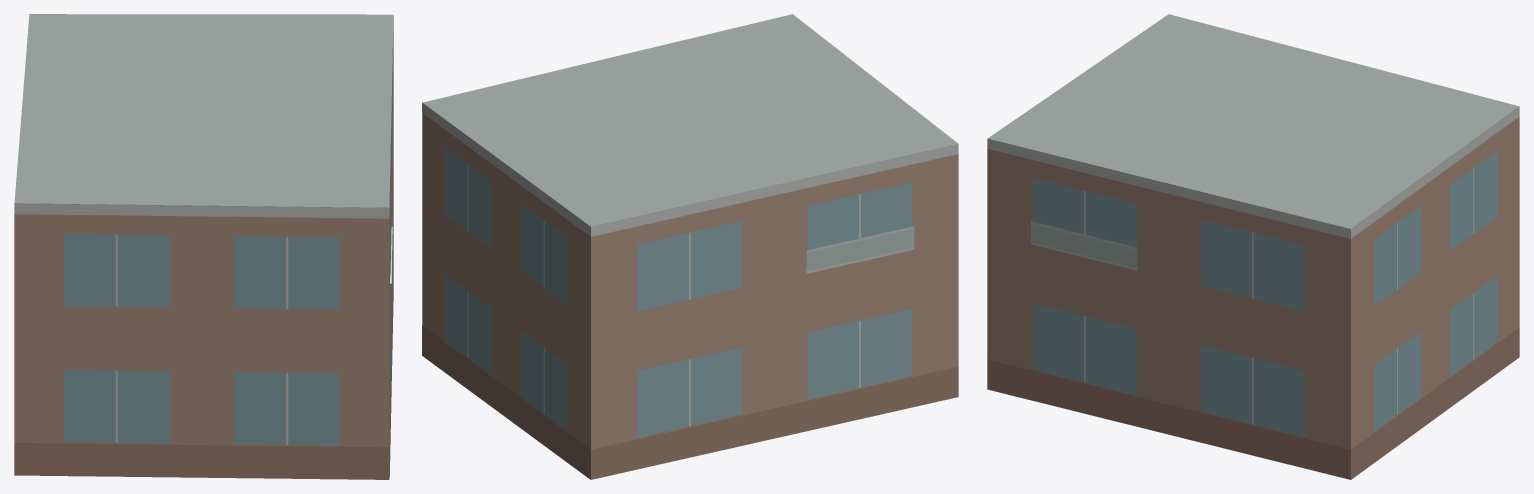
File: survey-upis-32784755.glb
3 renders of one model, left to right at view 1: azimuth 30°, elevation 25°; view 2: azimuth 150°, elevation 25°; view 3: azimuth 270°, elevation 25°, orthographic. The views are drawn at different scales.
Parts seen in each view (by area): view 1: survey-upis-32784755.tmp; view 2: survey-upis-32784755.tmp; view 3: survey-upis-32784755.tmp.
Part boxes in pixels (bbox=[...]): survey-upis-32784755.tmp: bbox=[14, 14, 393, 479]; survey-upis-32784755.tmp: bbox=[422, 14, 958, 479]; survey-upis-32784755.tmp: bbox=[987, 14, 1519, 479].
Size of the model in its own units: 11.22 by 6.1 by 11.74.
